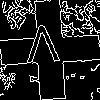V: (25, 25, 61, 72)
